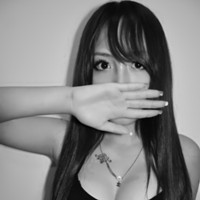face: (85, 24, 156, 126)
